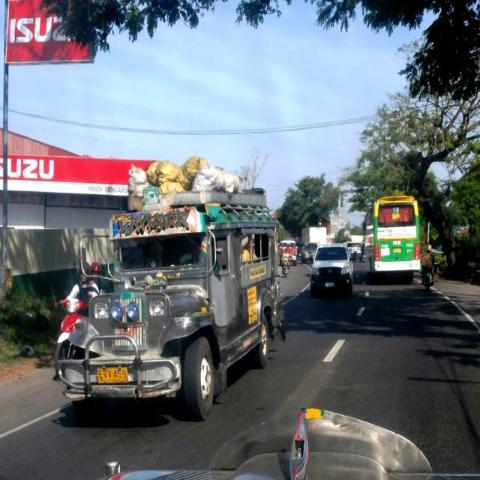bus: (370, 196, 424, 282)
car: (310, 243, 355, 297), (301, 242, 319, 264)
jeepney: (49, 200, 285, 408)
